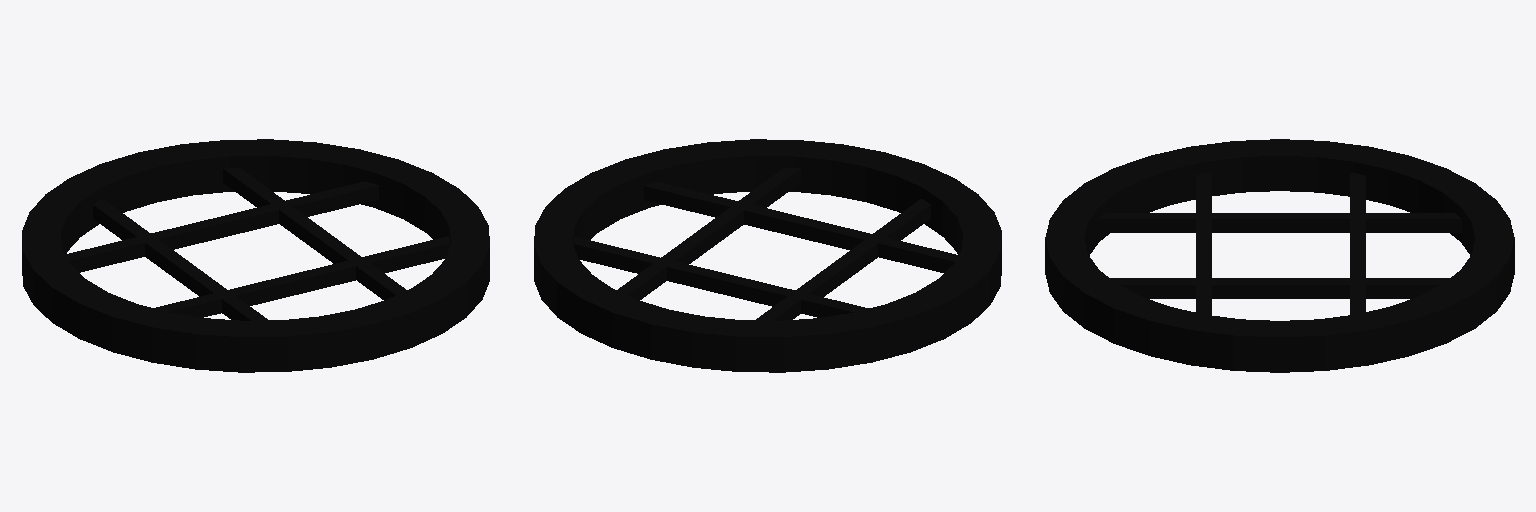
Rendered from ogien_1.obj.
3 renders of one model, left to right at view 1: azimuth 30°, elevation 25°; view 2: azimuth 150°, elevation 25°; view 3: azimuth 270°, elevation 25°, orthographic.
Parts seen in each view (by area): view 1: Cylinder.005; view 2: Cylinder.005; view 3: Cylinder.005.
Boxes of the visible parts, box(x1,y1,x2,y2) form: Cylinder.005: box(22, 139, 489, 372); Cylinder.005: box(534, 139, 1001, 372); Cylinder.005: box(1045, 139, 1514, 372).
Bounding box in the file's own units: 3 × 0.25 × 3.